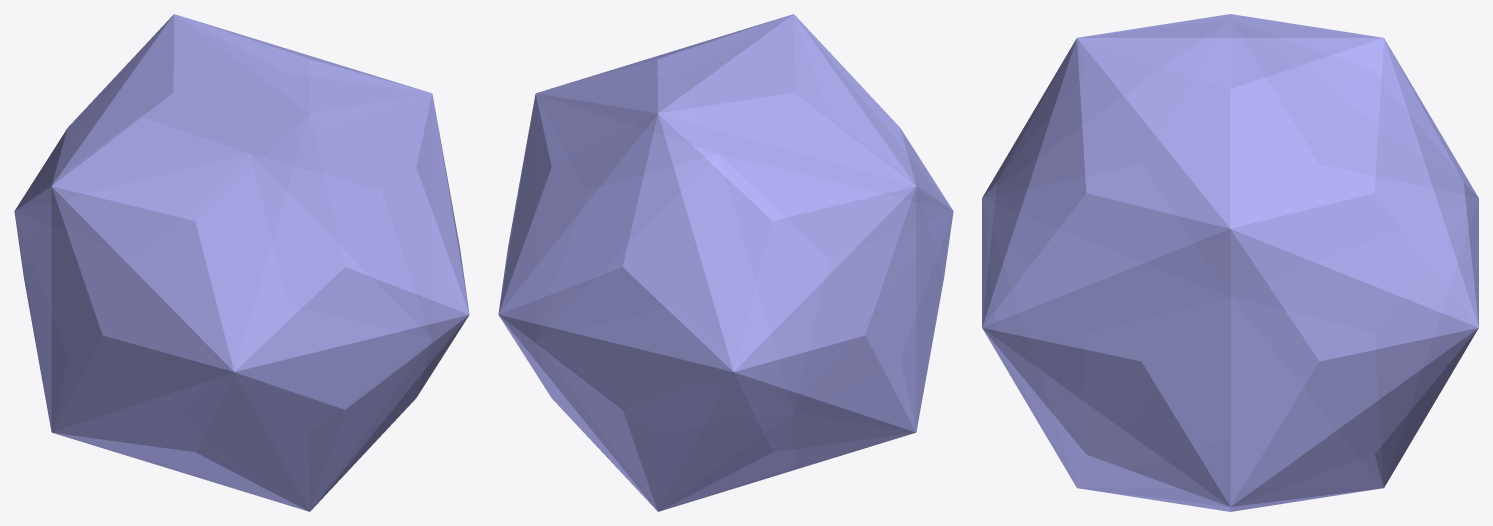
File: TriakisIcosahedron.obj
The picture shows the model from 3 angles, left to right: view 1: azimuth 30°, elevation 25°; view 2: azimuth 150°, elevation 25°; view 3: azimuth 270°, elevation 25°; orthographic projection. The views are drawn at different scales.
Bounding box in the file's own units: 5.85 × 5.85 × 5.85.
